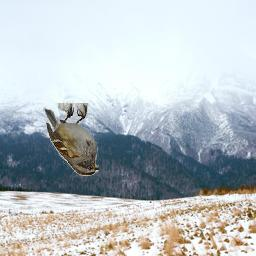Sparrow: (43, 104, 99, 177)
